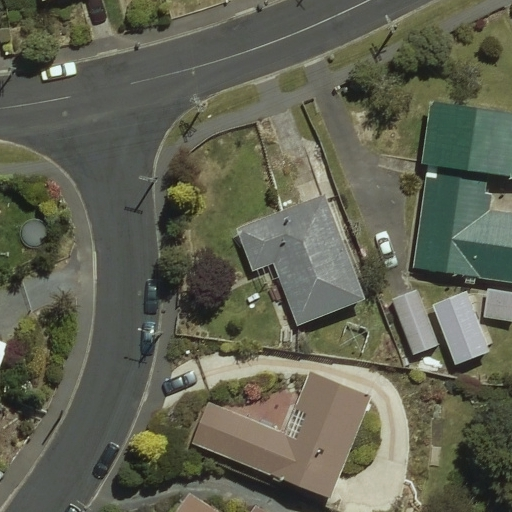DT: (377, 9, 403, 46), (185, 91, 213, 118), (136, 168, 160, 188)
